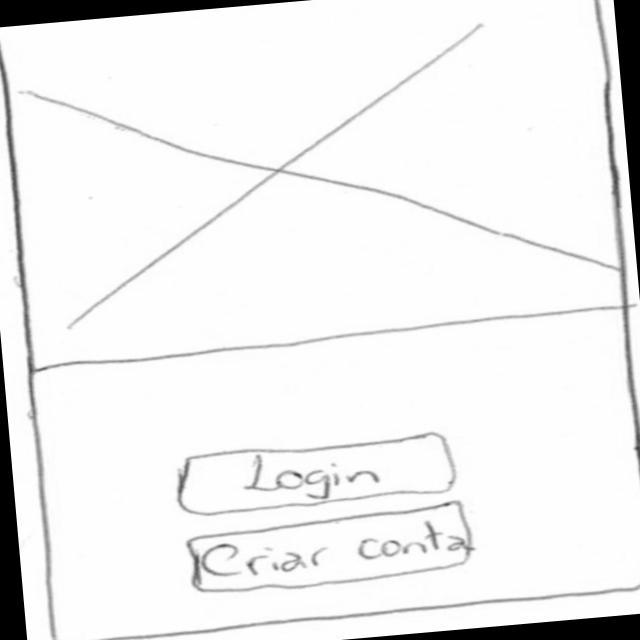button: (185, 498, 480, 600), (168, 426, 470, 520)
container: (21, 305, 640, 640)
image: (0, 0, 640, 368)
